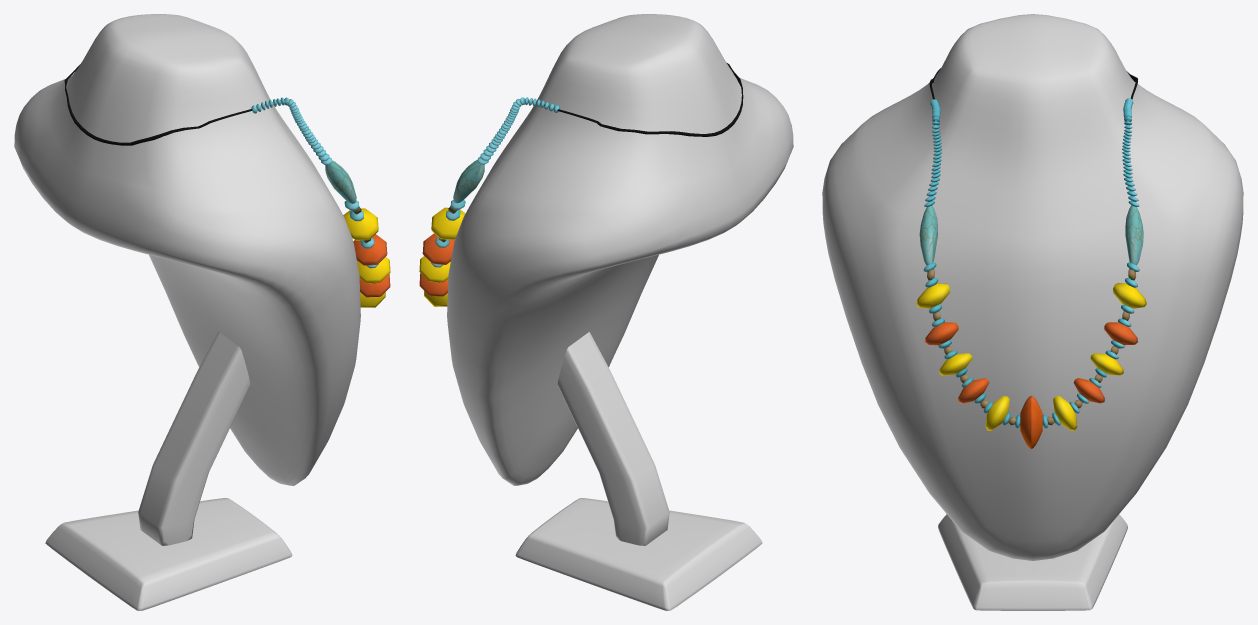
File: HelenaBeads1.fbx
3 renders of one model, left to right at view 1: azimuth 30°, elevation 25°; view 2: azimuth 150°, elevation 25°; view 3: azimuth 270°, elevation 25°, orthographic.
Visible parts, largest first — view 1: polySurface2.008, BezierCurve; view 2: polySurface2.008, BezierCurve; view 3: polySurface2.008, BezierCurve.
Boxes of the visible parts, x1,y1,x2,y2 form: polySurface2.008: (14,14,360,610); BezierCurve: (64,64,390,307); polySurface2.008: (447,14,793,610); BezierCurve: (419,63,743,306); polySurface2.008: (822,14,1243,610); BezierCurve: (916,68,1146,448).
Bounding box in the file's own units: 30.95 × 50.57 × 36.4.
Materials: 2 (1 with a texture image).
